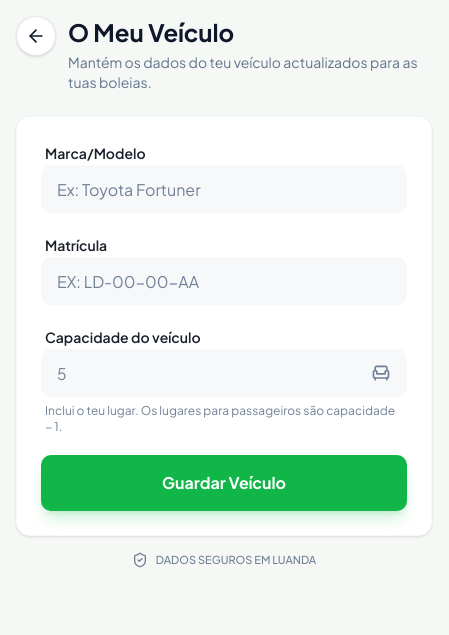
Test: VehicleSetup — Fluxo Upsert (Opção B — BD como Fonte da Verdade) › Submissão — .upsert() com onConflict: id_motorista › mostra mensagem de erro quando o upsert falha
Type "Toyota Hiace" into the field labelled "Marca/Modelo". click: point(224, 189)
box: [41,165,407,213]
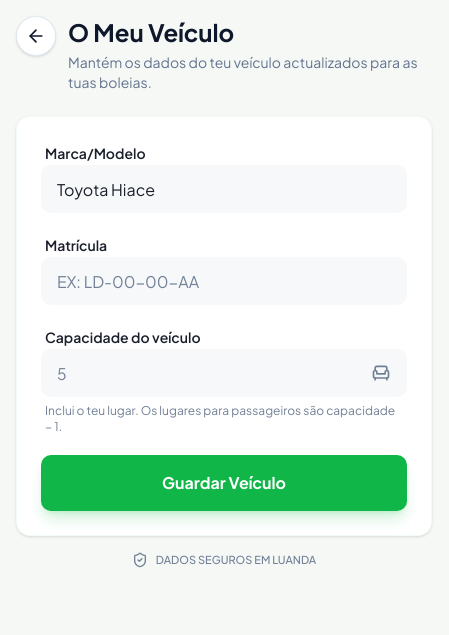
Type "LD-12-34-AB" into the field labelled "Matrícula". click: point(224, 281)
box: [41,257,407,305]
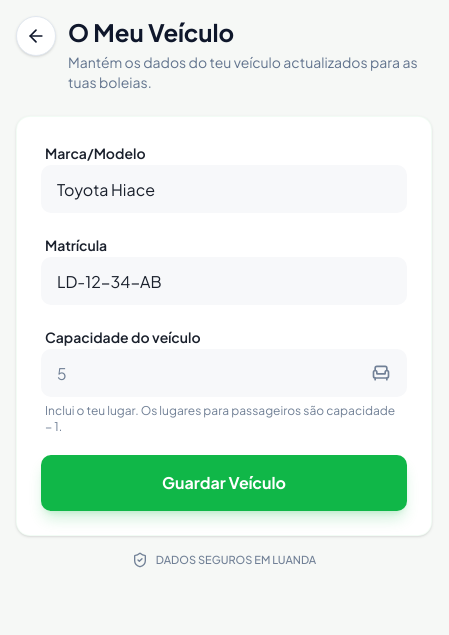
Type "8" into the number field labelled "Capacidade do veículo". click: point(224, 373)
box: [41,349,407,397]
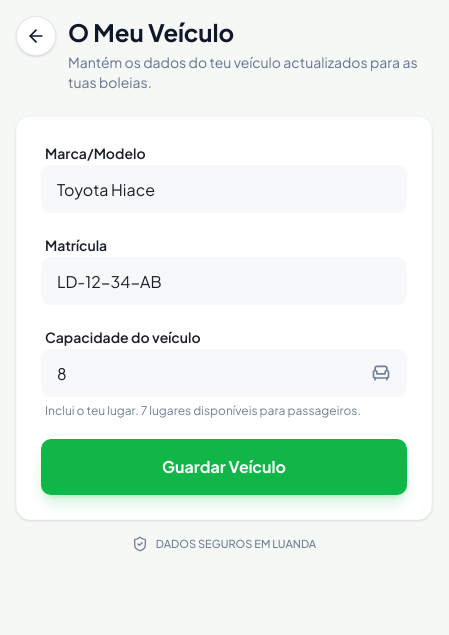
Click the button "Guardar Veículo". click: point(224, 467)
box: [41,439,407,495]
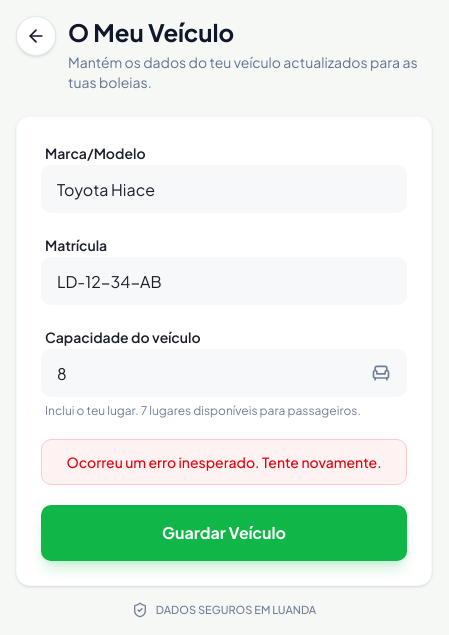
Result: the message "Ocorreu um erro inesperado. Tente novamente." is shown at [41,439,407,485]
